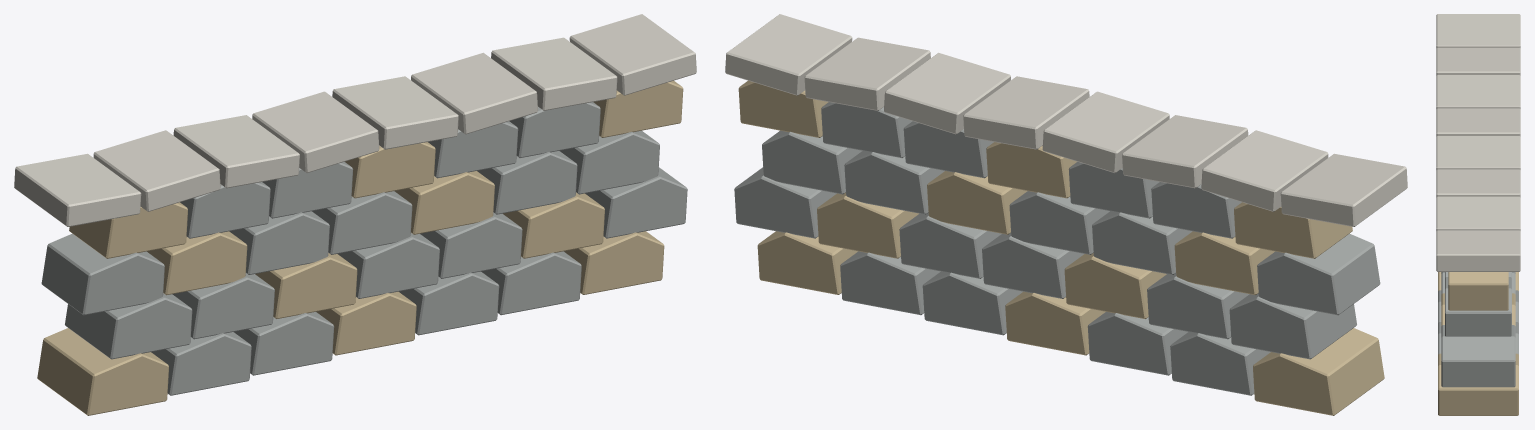
File: b19_dry_stone_boundary_wall.glb
The picture shows the model from 3 angles, left to right: view 1: azimuth 30°, elevation 25°; view 2: azimuth 150°, elevation 25°; view 3: azimuth 270°, elevation 25°; orthographic projection. The views are drawn at different scales.
Parts seen in each view (by area): view 1: b19_dry_stone_boundary_wall; view 2: b19_dry_stone_boundary_wall; view 3: b19_dry_stone_boundary_wall.
Boxes of the visible parts, x1,y1,x2,y2 form: b19_dry_stone_boundary_wall: [14, 14, 696, 415]; b19_dry_stone_boundary_wall: [725, 14, 1407, 415]; b19_dry_stone_boundary_wall: [1436, 14, 1520, 415].
Size of the model in its own units: 2.98 by 0.9997 by 0.44.
